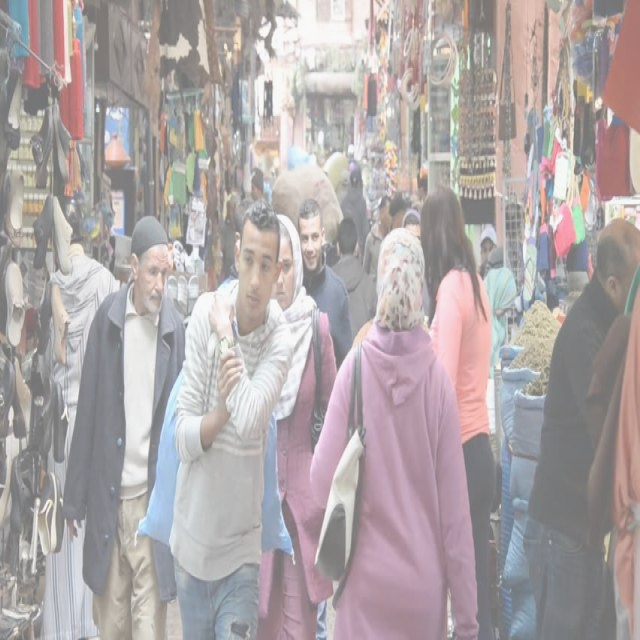pessoa: (303, 217, 483, 639), (137, 194, 296, 638), (58, 212, 188, 639), (522, 216, 639, 639), (36, 193, 122, 639), (419, 182, 501, 638), (254, 209, 338, 639), (296, 192, 355, 375), (609, 306, 639, 634), (326, 211, 379, 341), (477, 229, 512, 347), (362, 192, 394, 319), (204, 180, 236, 283), (338, 165, 369, 260), (390, 174, 426, 238), (239, 168, 270, 209)
